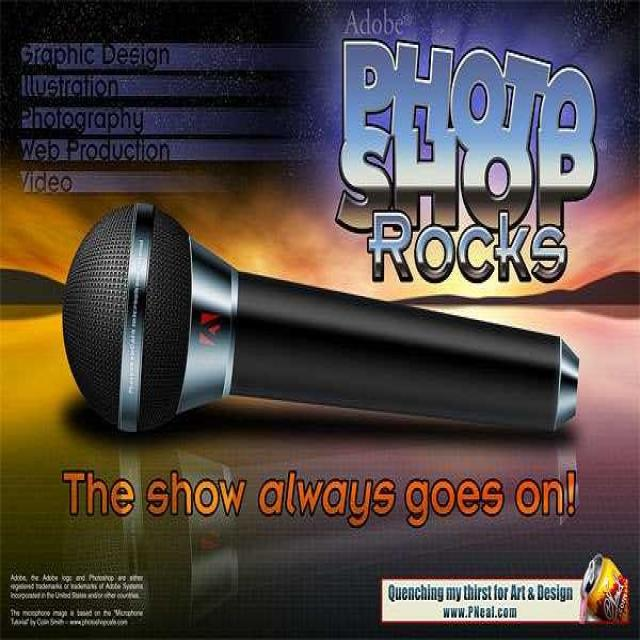microphone: (61, 195, 582, 454)
